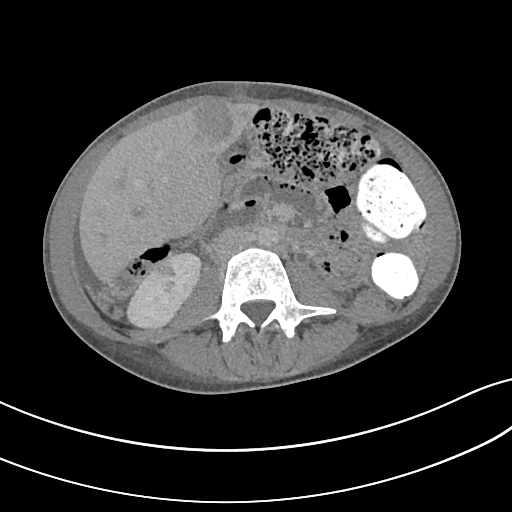Lesion: (148, 260, 179, 276)
